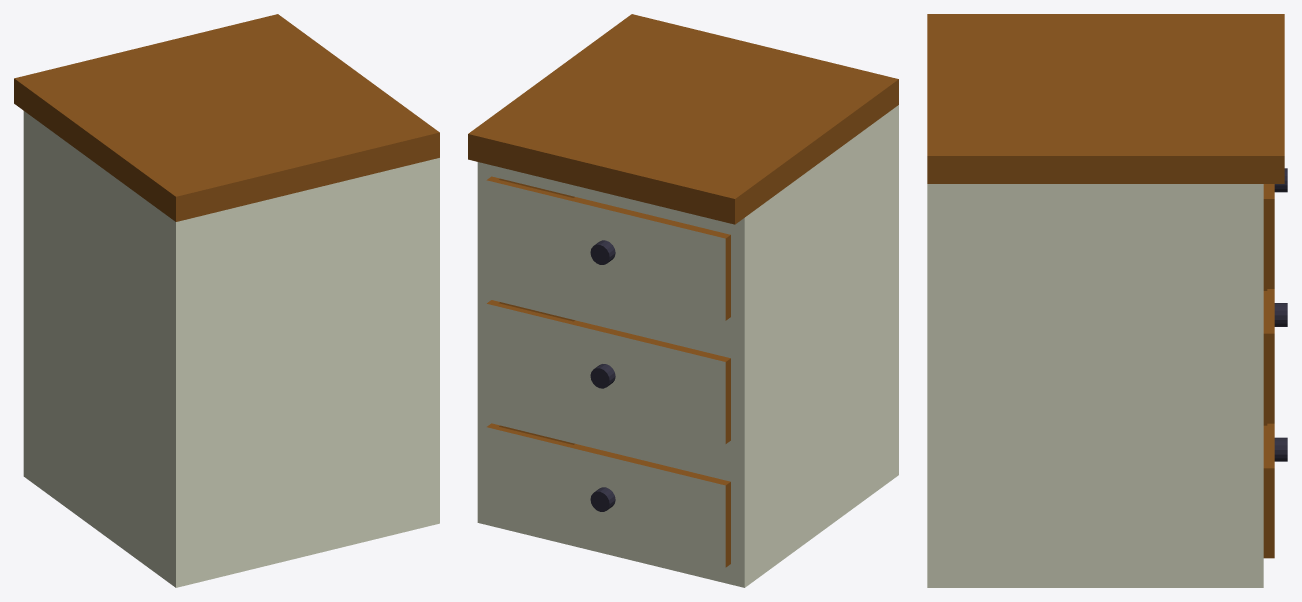
Rendered from placard tiroir.fbx.
3 views of the same model, side by side, from view 1: azimuth 30°, elevation 25°; view 2: azimuth 150°, elevation 25°; view 3: azimuth 270°, elevation 25° (orthographic). The views are drawn at different scales.
Visible parts, largest first — view 1: meuble tiroir; view 2: meuble tiroir; view 3: meuble tiroir.
Boxes of the visible parts, bbox=[...] form: meuble tiroir: bbox=[14, 14, 439, 587]; meuble tiroir: bbox=[468, 14, 898, 587]; meuble tiroir: bbox=[927, 14, 1287, 587].
Bounding box in the file's own units: 60 × 85 × 64.34.
